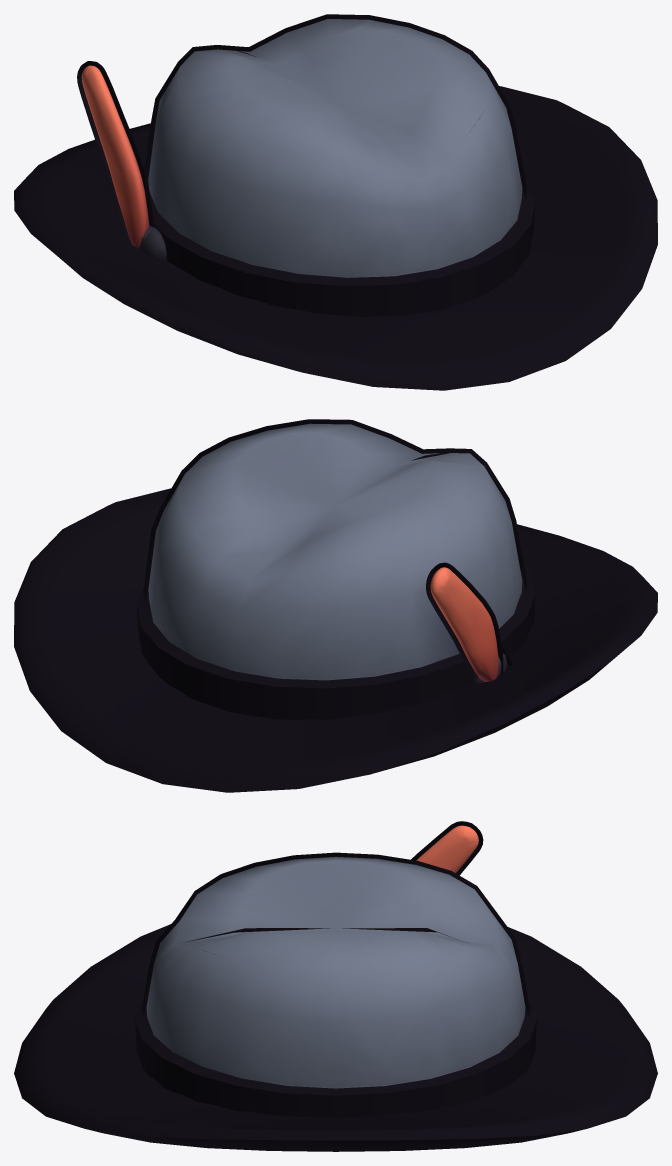
The model's file is ClassicFedora.fbx.
3 views of the same model, one above another, from view 1: azimuth 30°, elevation 25°; view 2: azimuth 150°, elevation 25°; view 3: azimuth 270°, elevation 25° (orthographic). The views are drawn at different scales.
Parts seen in each view (by area): view 1: ClassicFedora; view 2: ClassicFedora; view 3: ClassicFedora.
Part boxes in pixels (box(x1,y1,x2,y2)): ClassicFedora: box(14, 14, 657, 390); ClassicFedora: box(14, 419, 657, 792); ClassicFedora: box(14, 821, 657, 1151).
Size of the model in its own units: 213 by 72.63 by 234.
Materials: 1 (1 with a texture image).
